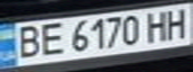0: (121, 11, 145, 46)
1: (87, 16, 109, 51)
6: (66, 17, 90, 53)
7: (103, 14, 127, 48)
B: (9, 22, 45, 60)
E: (36, 20, 69, 57)
H: (142, 8, 172, 43), (163, 6, 190, 39)
